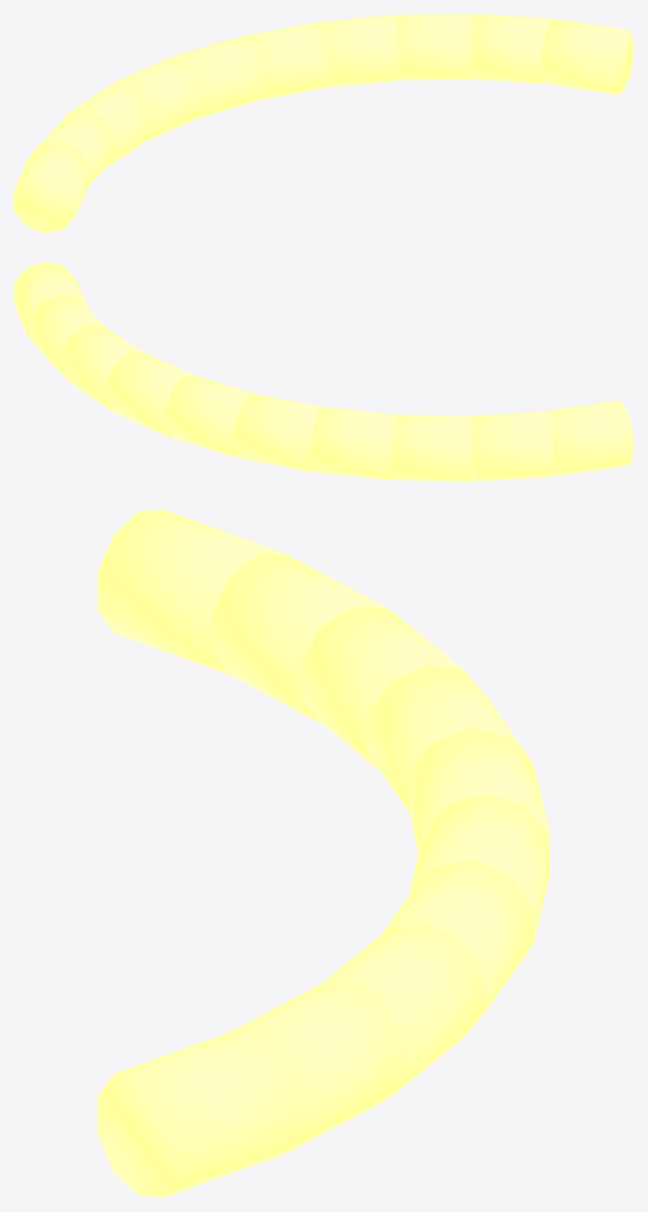
Rendered from SM_SonicBarkWave.fbx.
3 views of the same model, one above another, from view 1: azimuth 30°, elevation 25°; view 2: azimuth 150°, elevation 25°; view 3: azimuth 270°, elevation 25° (orthographic). The views are drawn at different scales.
Visible parts, largest first — view 1: SM_SonicBarkWave; view 2: SM_SonicBarkWave; view 3: SM_SonicBarkWave.
Part boxes in pixels (x1,y1,x2,y2): SM_SonicBarkWave: (14,14,633,233); SM_SonicBarkWave: (14,262,633,481); SM_SonicBarkWave: (98,510,549,1197).
Size of the model in its own units: 1.93 by 0.18 by 0.6099.
